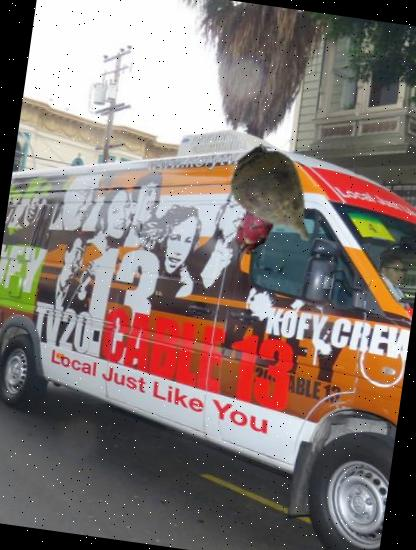Beetroot: (214, 136, 338, 258)
Pitahaya: (223, 199, 282, 259)
